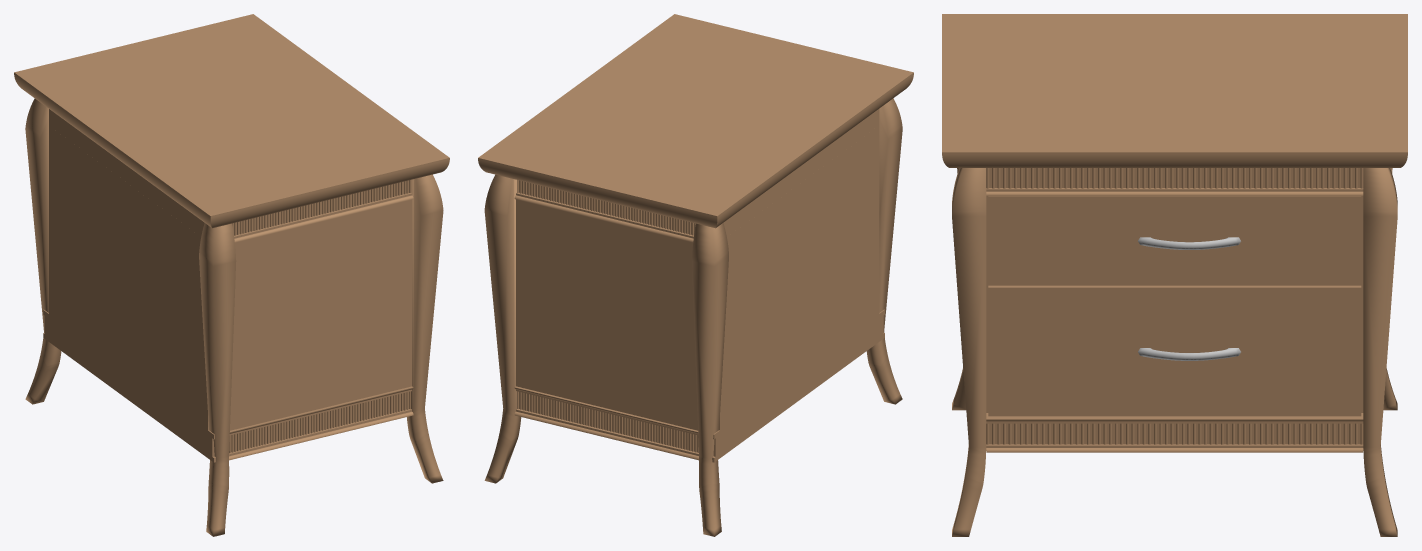
Rendered from mesa-de-cabeceira-verdicchio.glb.
The picture shows the model from 3 angles, left to right: view 1: azimuth 30°, elevation 25°; view 2: azimuth 150°, elevation 25°; view 3: azimuth 270°, elevation 25°; orthographic projection. The views are drawn at different scales.
Size of the model in its own units: 0.45 by 0.585 by 0.64.
